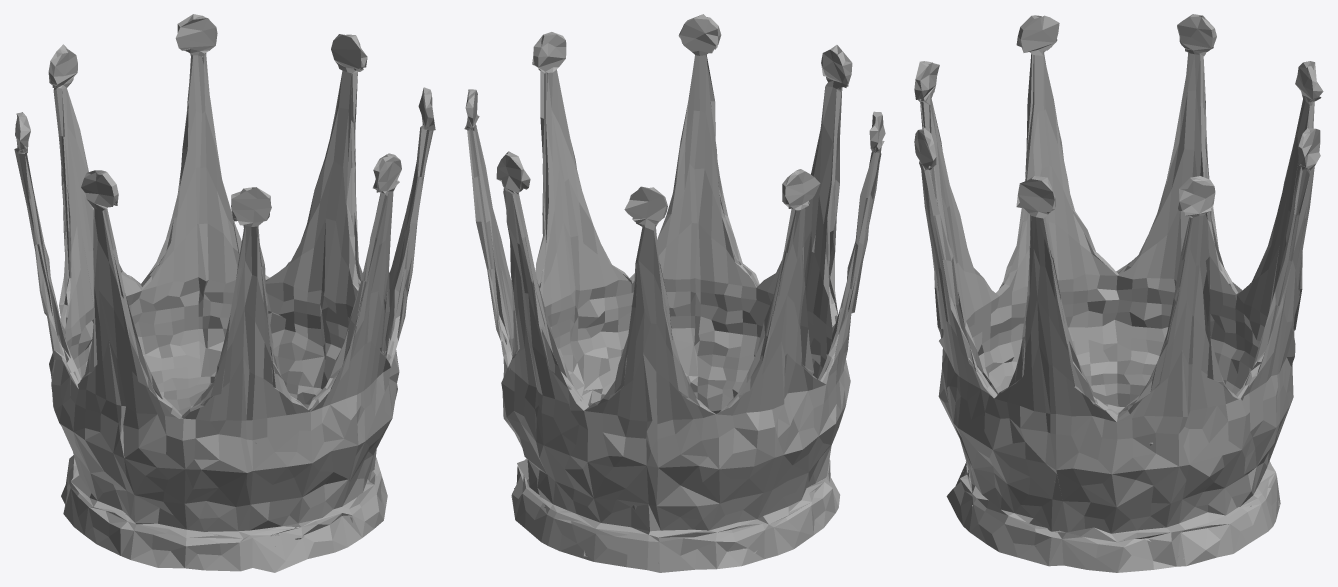
The model's file is queen.fbx.
The picture shows the model from 3 angles, left to right: view 1: azimuth 30°, elevation 25°; view 2: azimuth 150°, elevation 25°; view 3: azimuth 270°, elevation 25°; orthographic projection.
Parts seen in each view (by area): view 1: queen; view 2: queen; view 3: queen.
Part boxes in pixels (x1=…): queen: x1=14, y1=14, x2=435, y2=572; queen: x1=464, y1=14, x2=885, y2=572; queen: x1=914, y1=14, x2=1323, y2=572.
Size of the model in its own units: 154 by 172 by 154.
